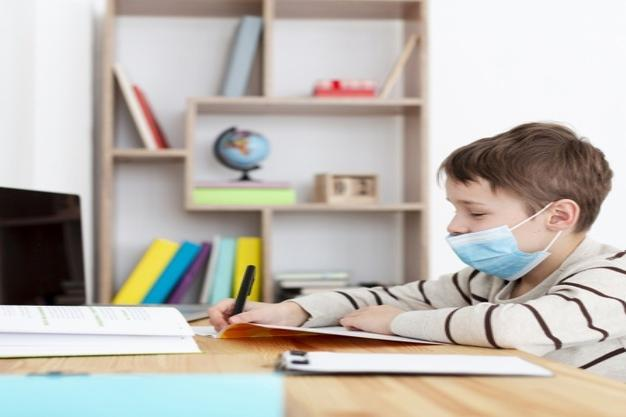mask_weared_incorrect: (439, 119, 608, 283)
